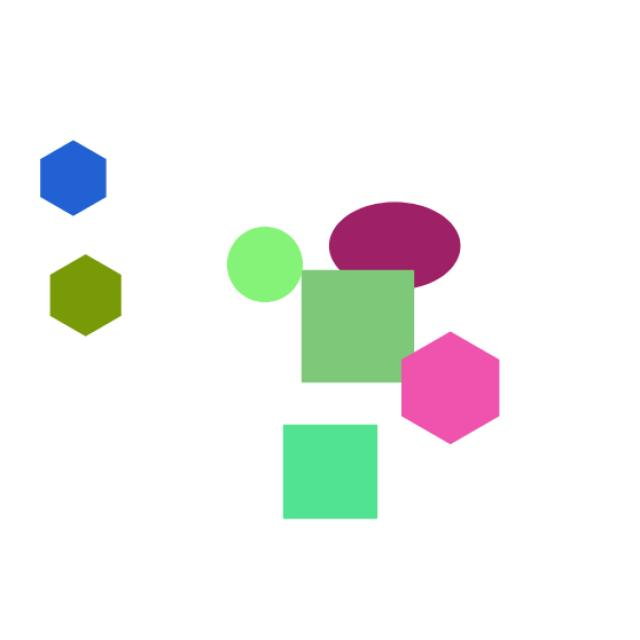Circle: (221, 220, 305, 304)
Hexagon: (392, 324, 516, 449), (39, 248, 133, 350), (32, 136, 116, 222)
Oval: (318, 193, 464, 292)
square: (293, 259, 432, 394), (276, 414, 398, 531)
